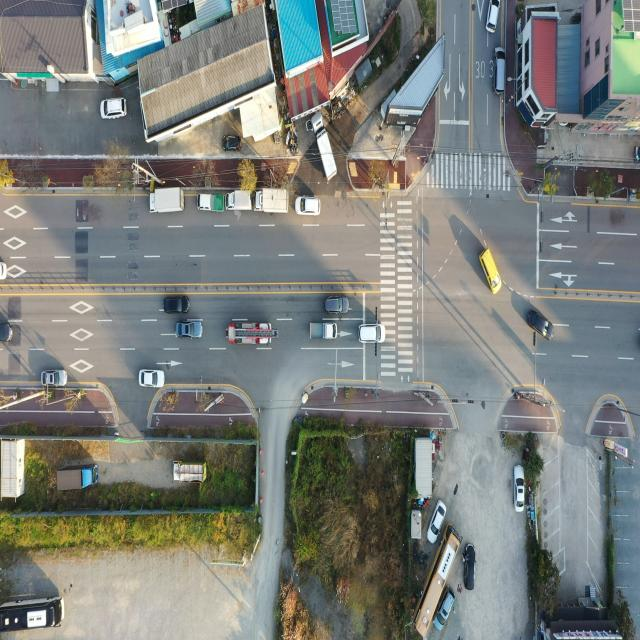car: (480, 246, 501, 295), (435, 586, 457, 628), (427, 494, 446, 542), (527, 309, 552, 342), (463, 544, 477, 592), (494, 45, 507, 96), (481, 0, 499, 36), (100, 98, 127, 120), (296, 196, 322, 217), (176, 320, 202, 340), (358, 326, 384, 346), (139, 368, 164, 388), (515, 465, 526, 510), (164, 295, 190, 314), (43, 370, 69, 388), (221, 131, 241, 153), (327, 297, 349, 316), (0, 322, 14, 343), (0, 262, 8, 283)
large_bus: (417, 528, 462, 637), (0, 594, 63, 631)
medium_truck: (310, 112, 342, 184), (229, 317, 276, 348), (54, 460, 100, 489), (254, 188, 289, 216), (148, 186, 185, 211)
small_truck: (171, 457, 208, 485), (196, 192, 224, 216), (227, 188, 252, 212)
